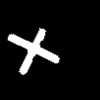single_crochet: (8, 29, 58, 73)
